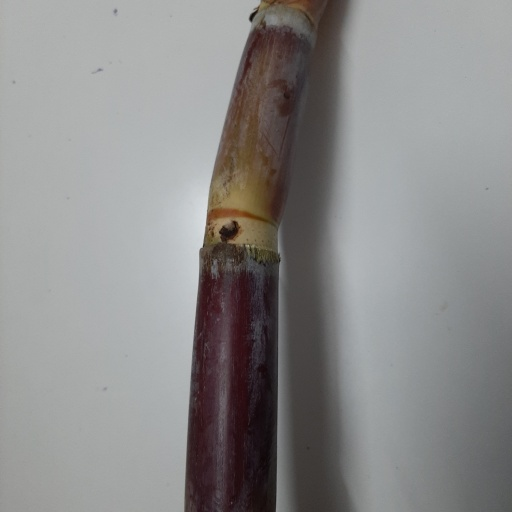Damage_Bud: (218, 219, 240, 245)
